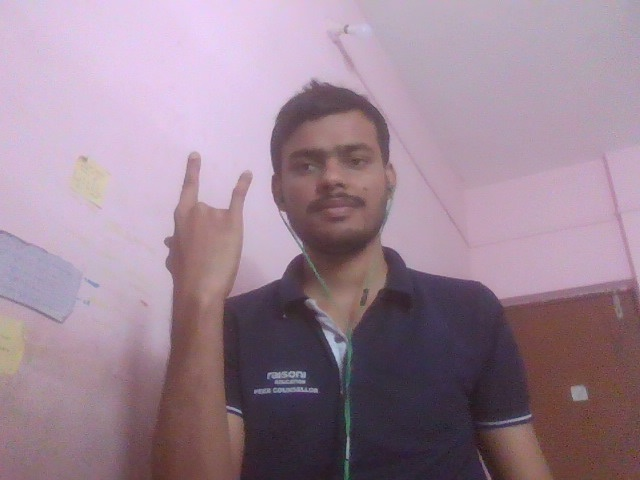ILoveYou: (119, 115, 275, 328)
